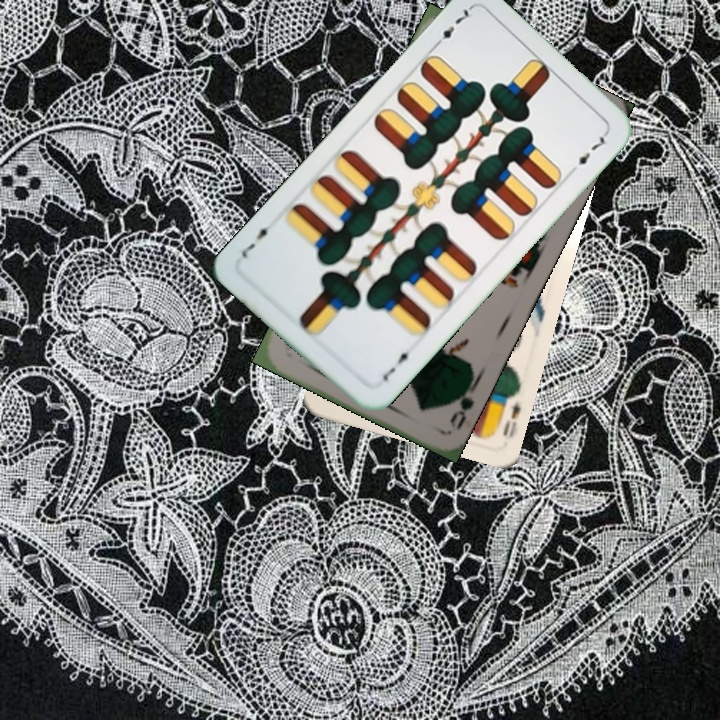E7: (429, 3, 474, 51), (378, 345, 417, 384)
EO: (490, 387, 523, 441)
GO: (445, 376, 481, 433)
